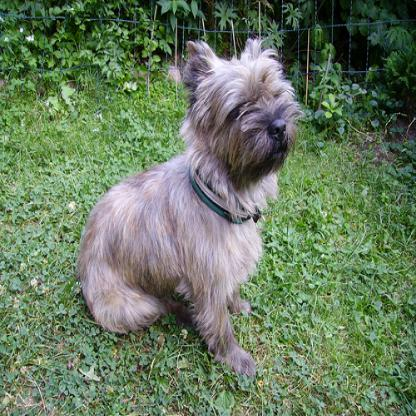dog: (76, 39, 303, 380)
